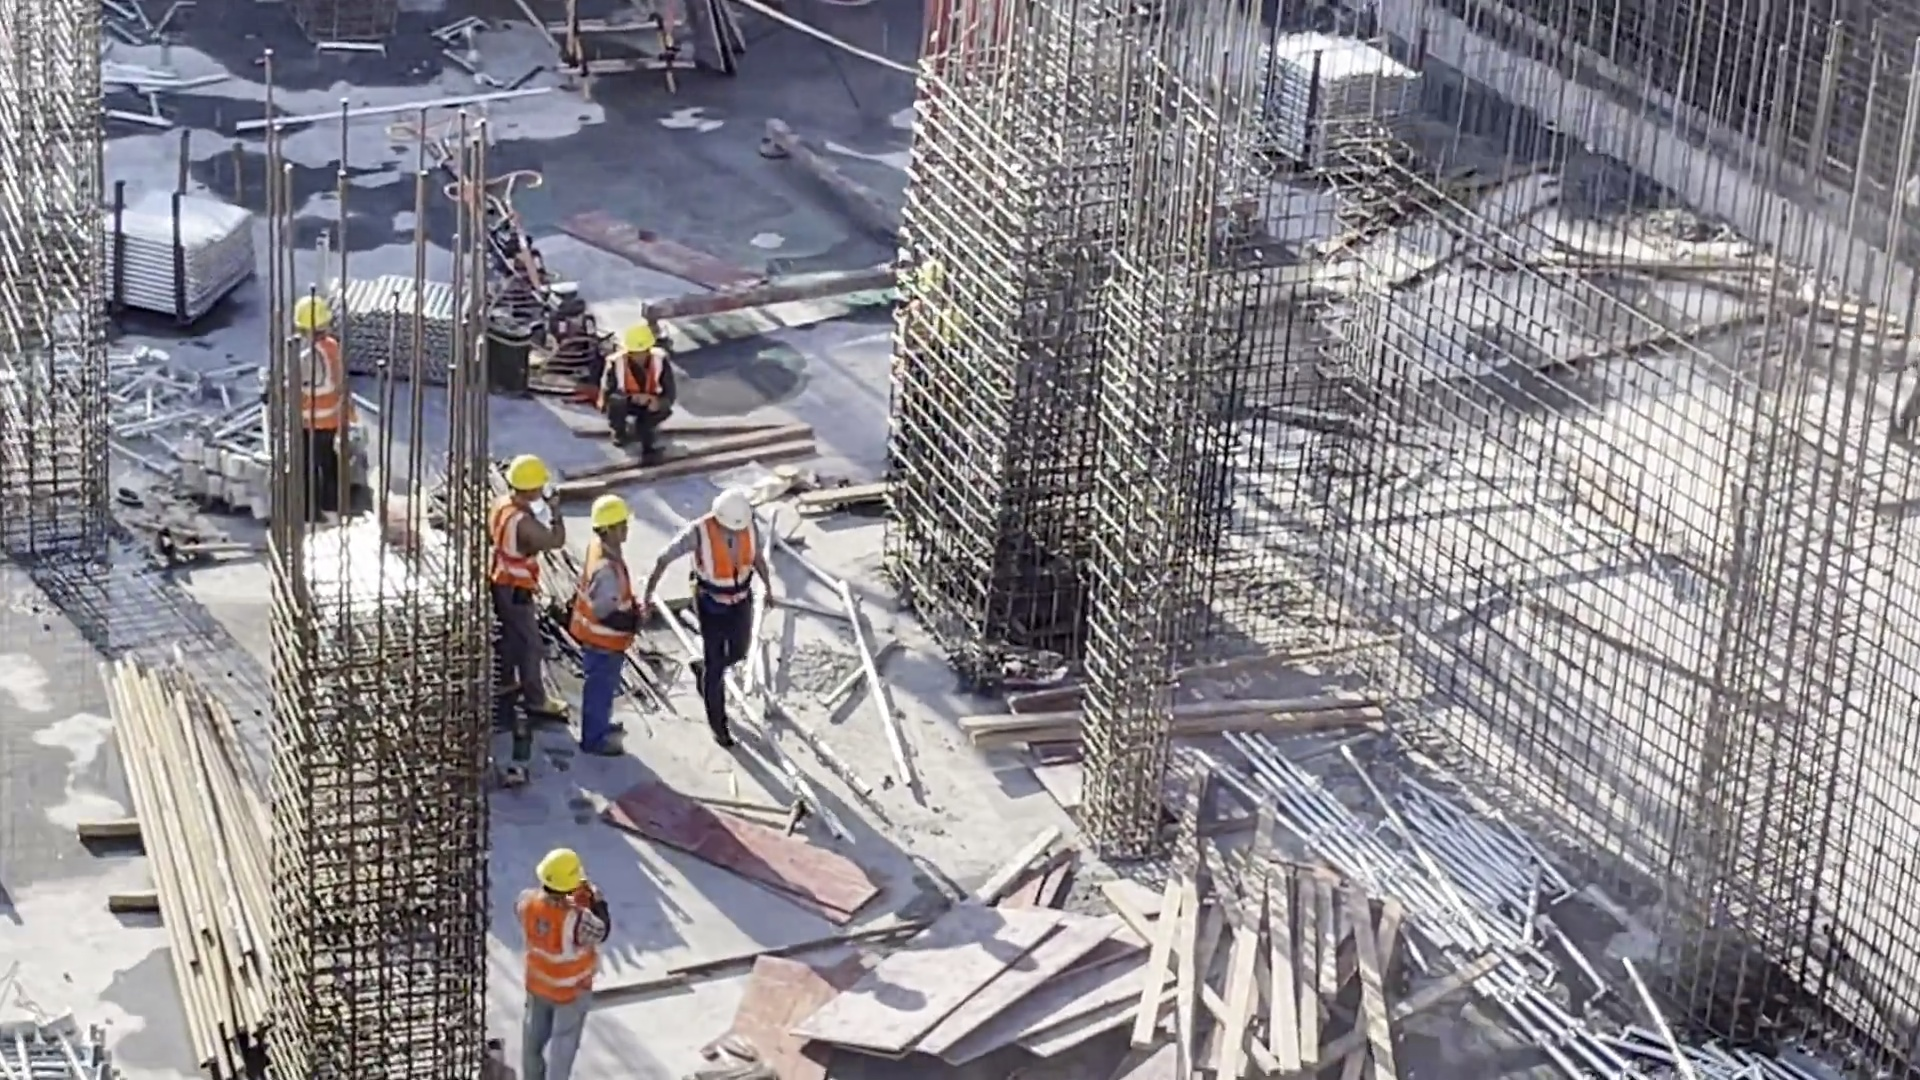board: (813, 900, 1134, 1069)
helmet: (526, 848, 591, 897), (292, 294, 345, 335), (503, 454, 547, 501), (703, 494, 752, 532), (584, 494, 629, 532), (618, 317, 660, 352)
person: (667, 480, 781, 730), (495, 832, 615, 1068), (485, 453, 580, 734), (266, 290, 377, 508), (565, 499, 659, 749), (604, 321, 688, 454)
scaffold: (1307, 730, 1578, 992), (1272, 28, 1439, 207), (306, 261, 499, 398), (180, 411, 371, 528), (120, 183, 254, 327), (13, 351, 207, 445)
vest: (522, 891, 588, 1008), (593, 352, 685, 427), (580, 537, 638, 649), (280, 348, 360, 425), (682, 530, 754, 609), (491, 511, 536, 589)
wood: (1149, 831, 1413, 1080)
